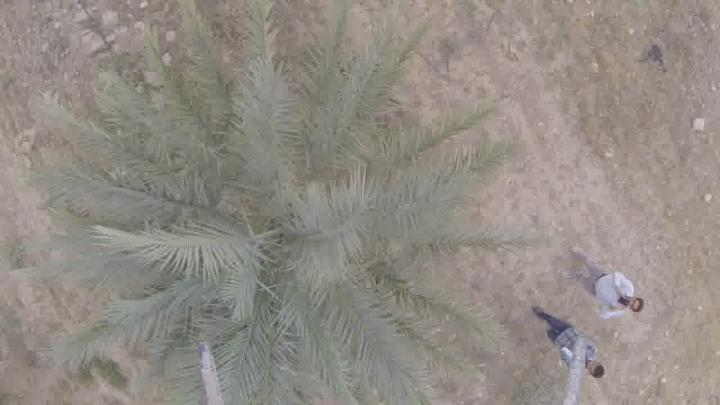Date-Palm-Crown: (132, 90, 420, 380)
